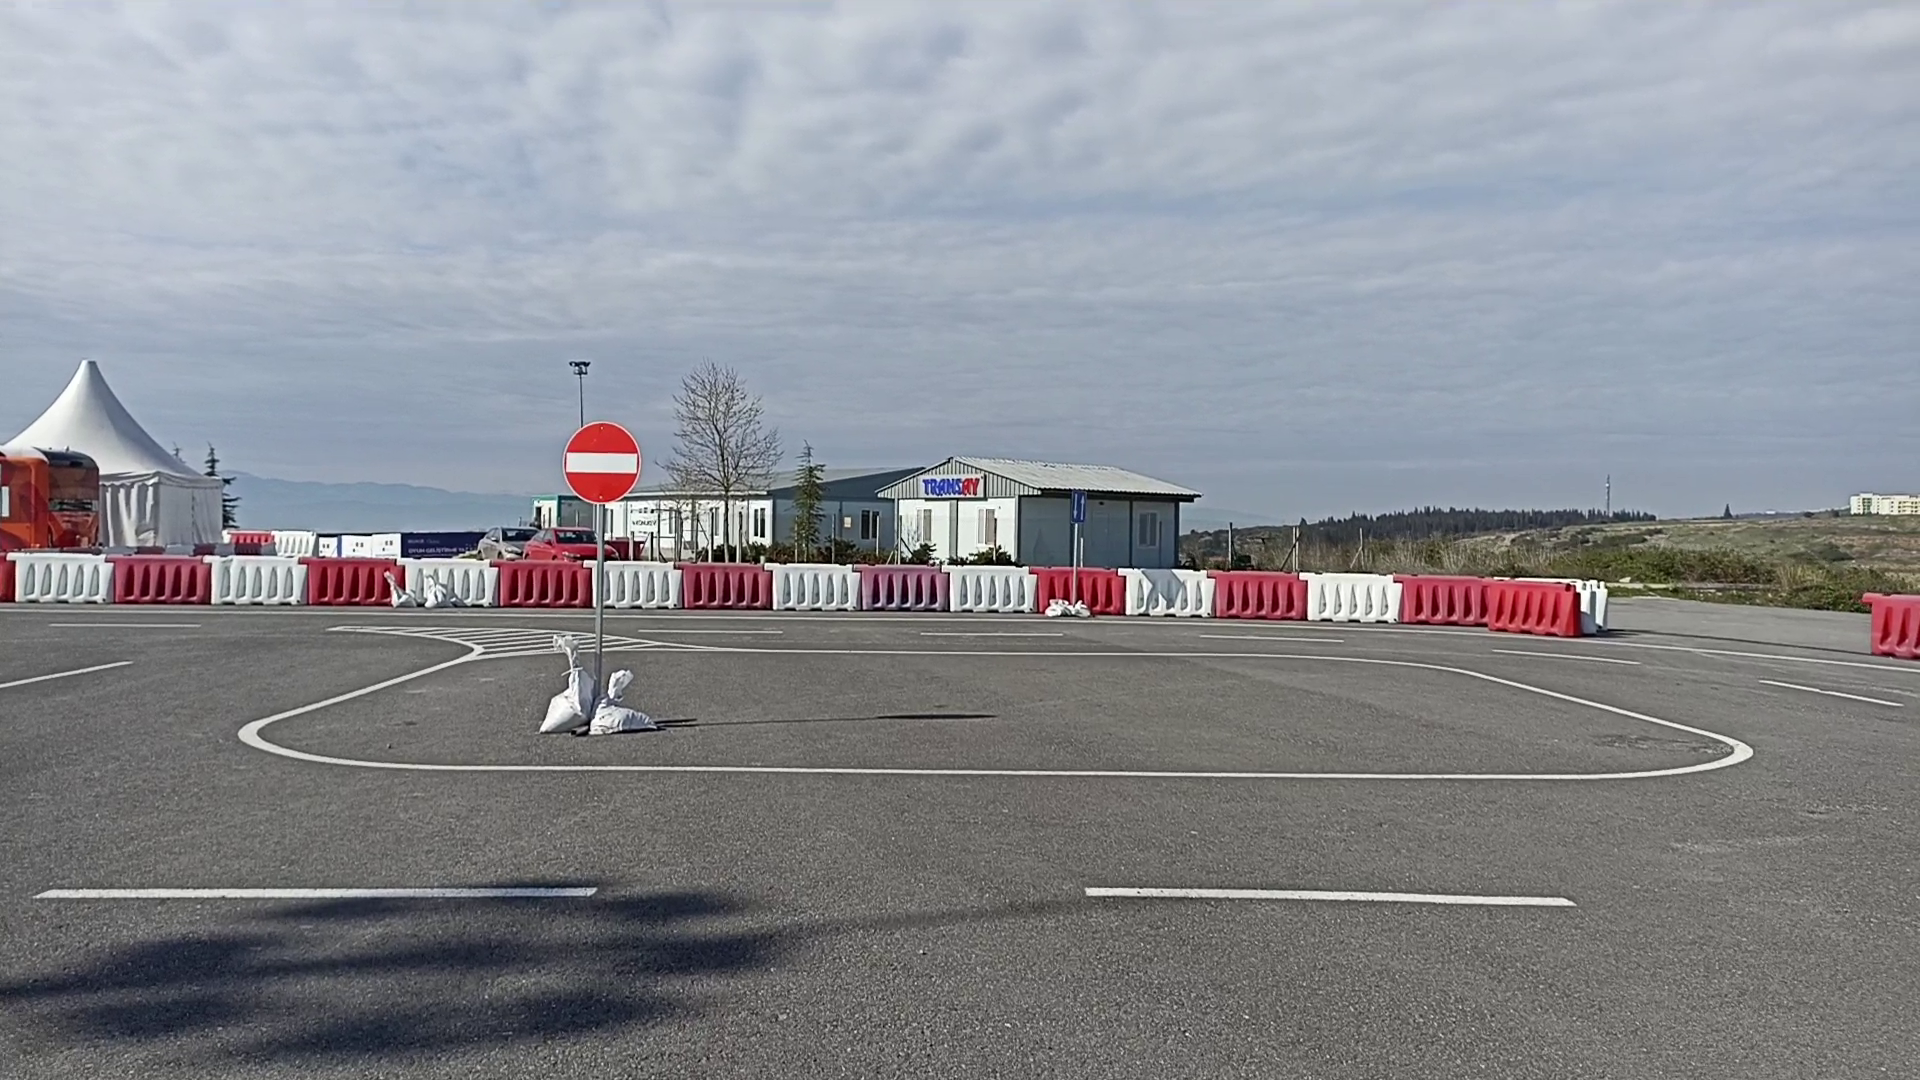noentryway: (558, 419, 644, 508)
